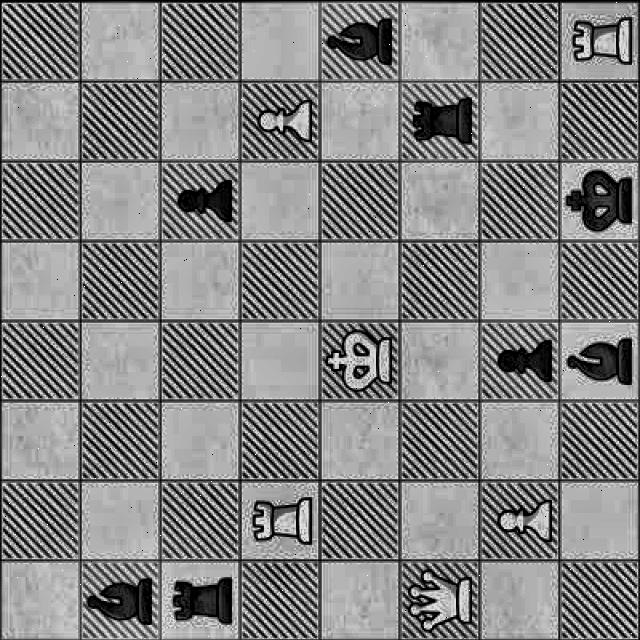black bishop: (83, 566, 163, 638), (320, 11, 397, 72), (568, 328, 634, 394)
black king: (563, 169, 635, 237)
black pawn: (490, 326, 554, 392), (163, 173, 237, 230)
black rook: (165, 564, 238, 636), (401, 89, 473, 152)
white king: (322, 321, 398, 399)
white pawn: (492, 485, 556, 551), (246, 91, 316, 147)
white queen: (404, 564, 474, 628)
white rook: (562, 10, 640, 70), (250, 486, 318, 552)
